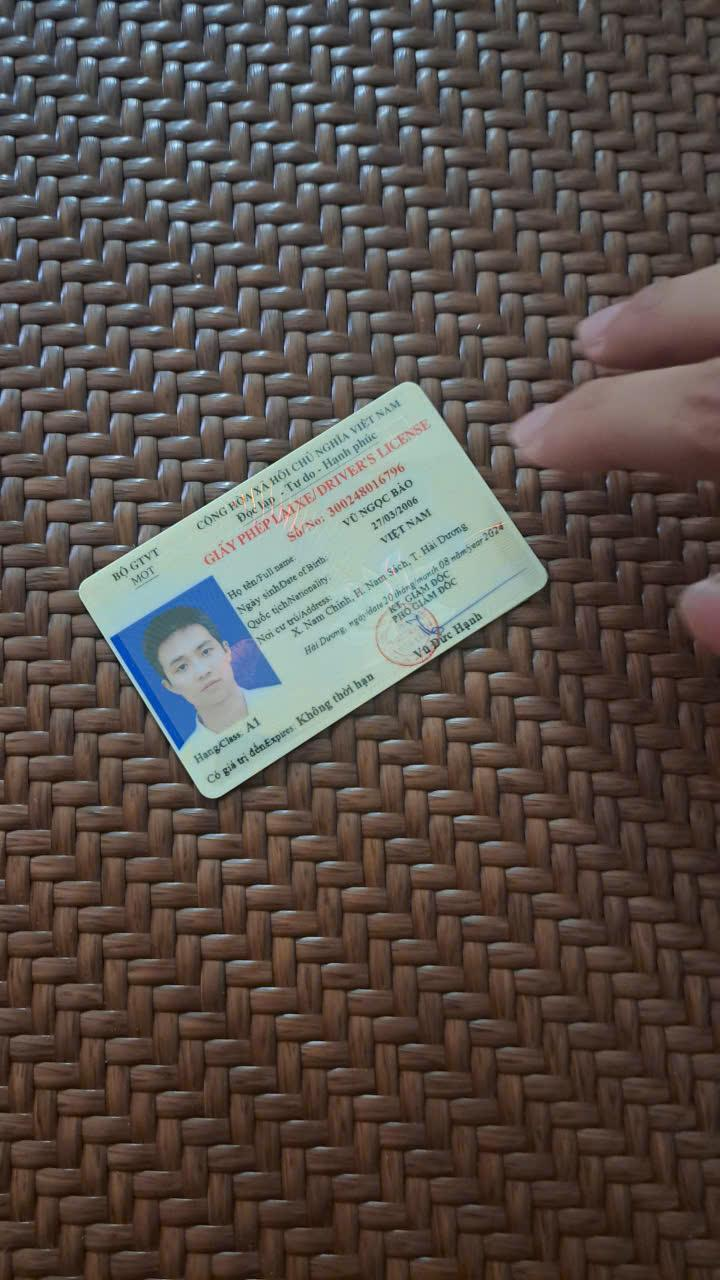gplx: (68, 373, 560, 805)
